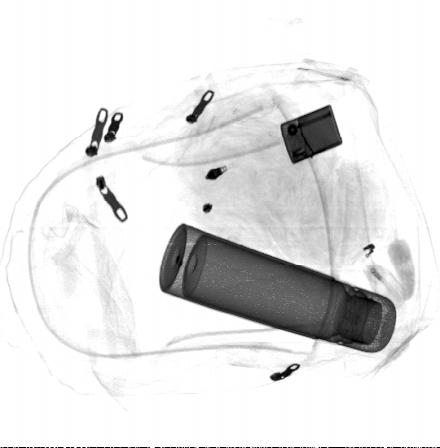Lighter: (280, 104, 343, 166)
